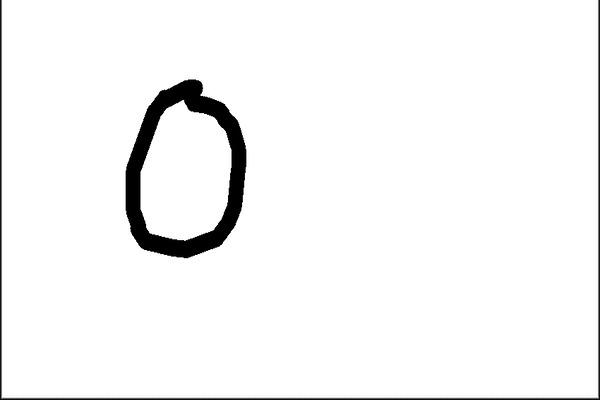O: (97, 68, 257, 265)
